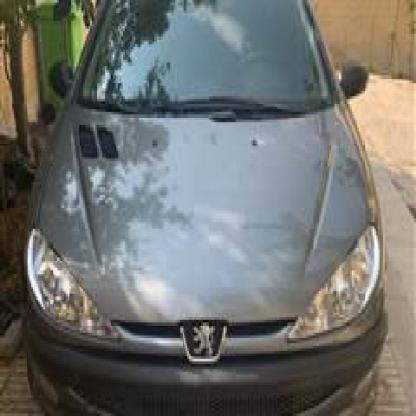car: (17, 0, 392, 414)
